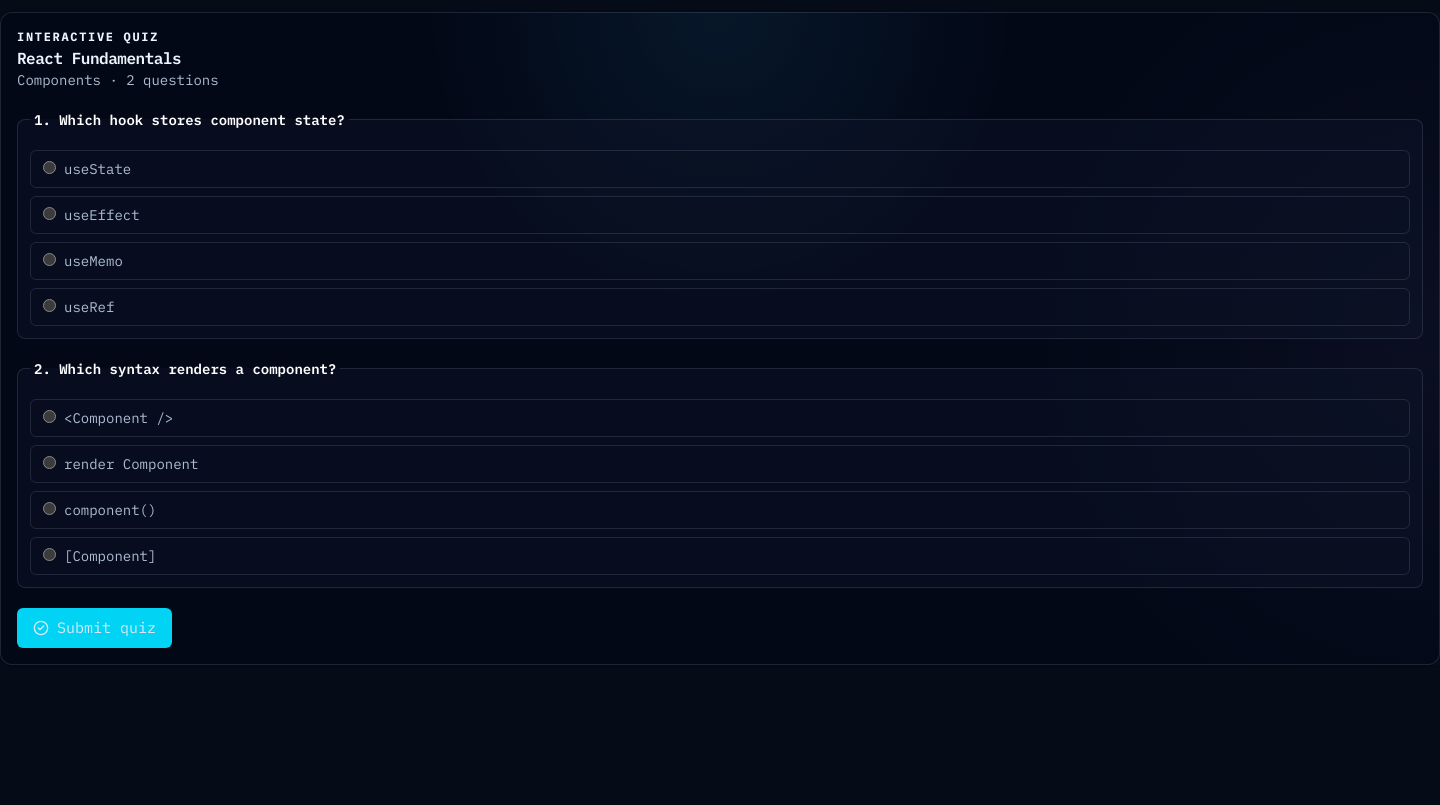
Test case: StudyQuizToolCard › reveals each submitted explanation independently
Expected: the button "Why is this the correct answer?" is not shown
Click the radio button labelled "useState" at (50, 167), box [43,161,56,174]
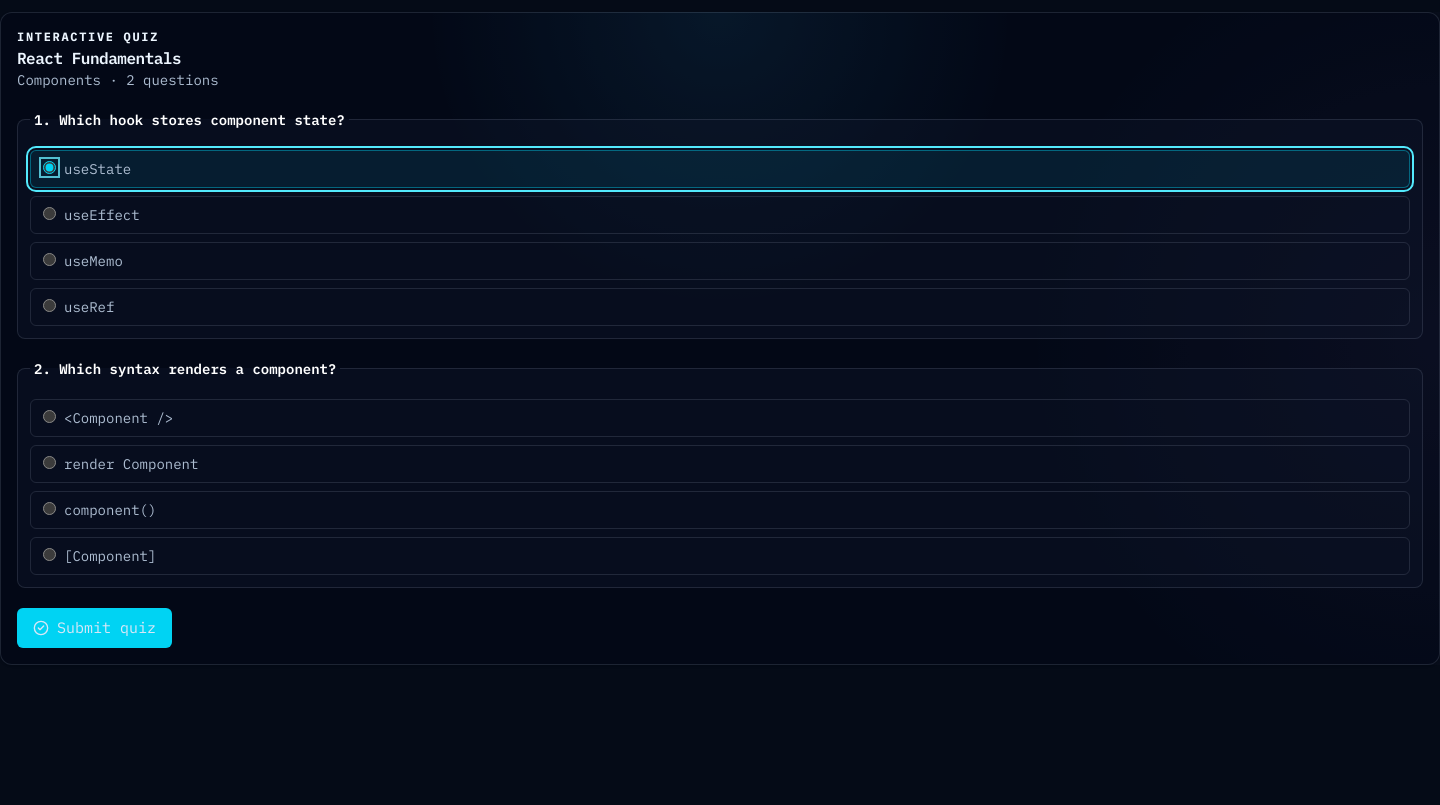
Click the radio button labelled "render Component" at (50, 462), box [43,456,56,469]
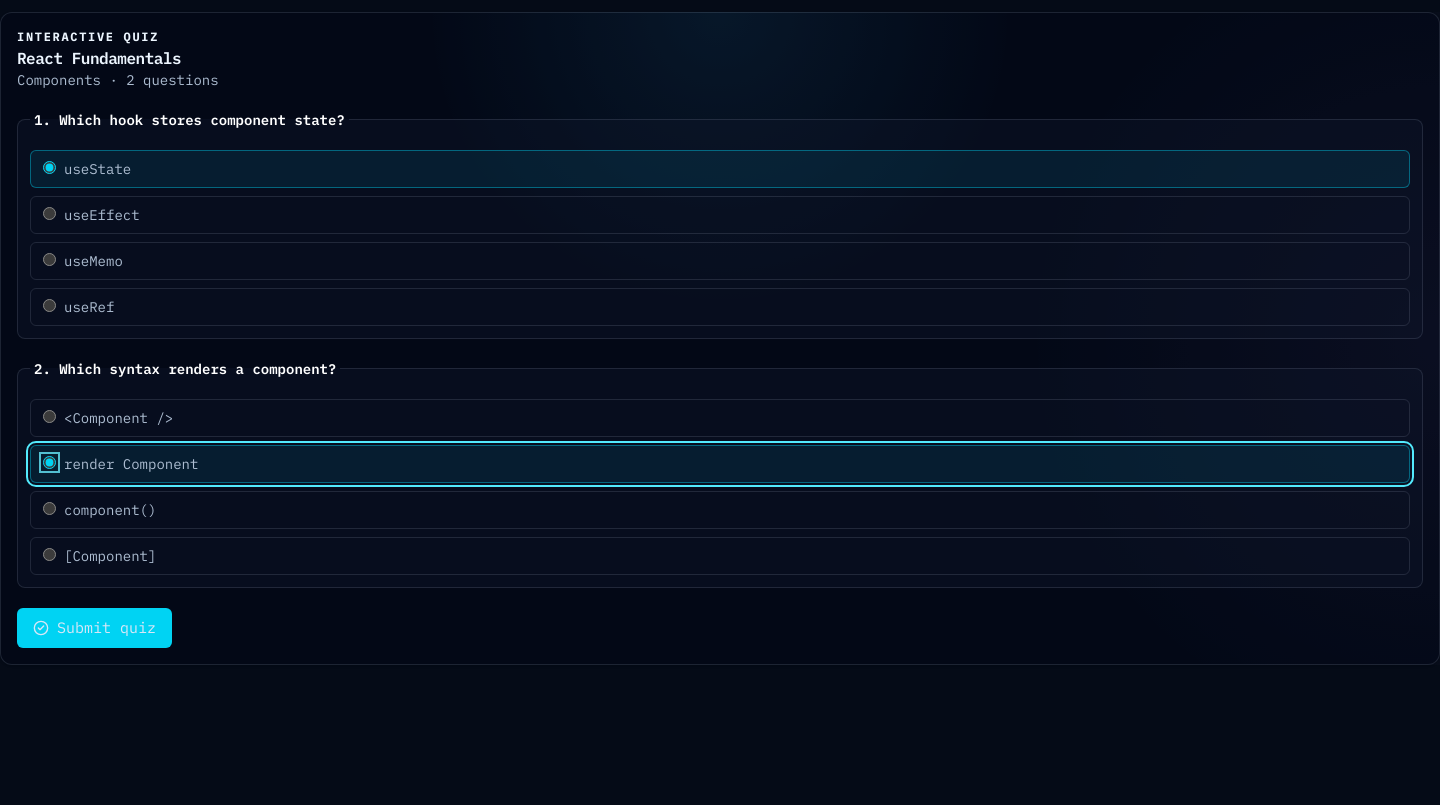
Click the button "Submit quiz" at (94, 628), box [17,608,172,648]
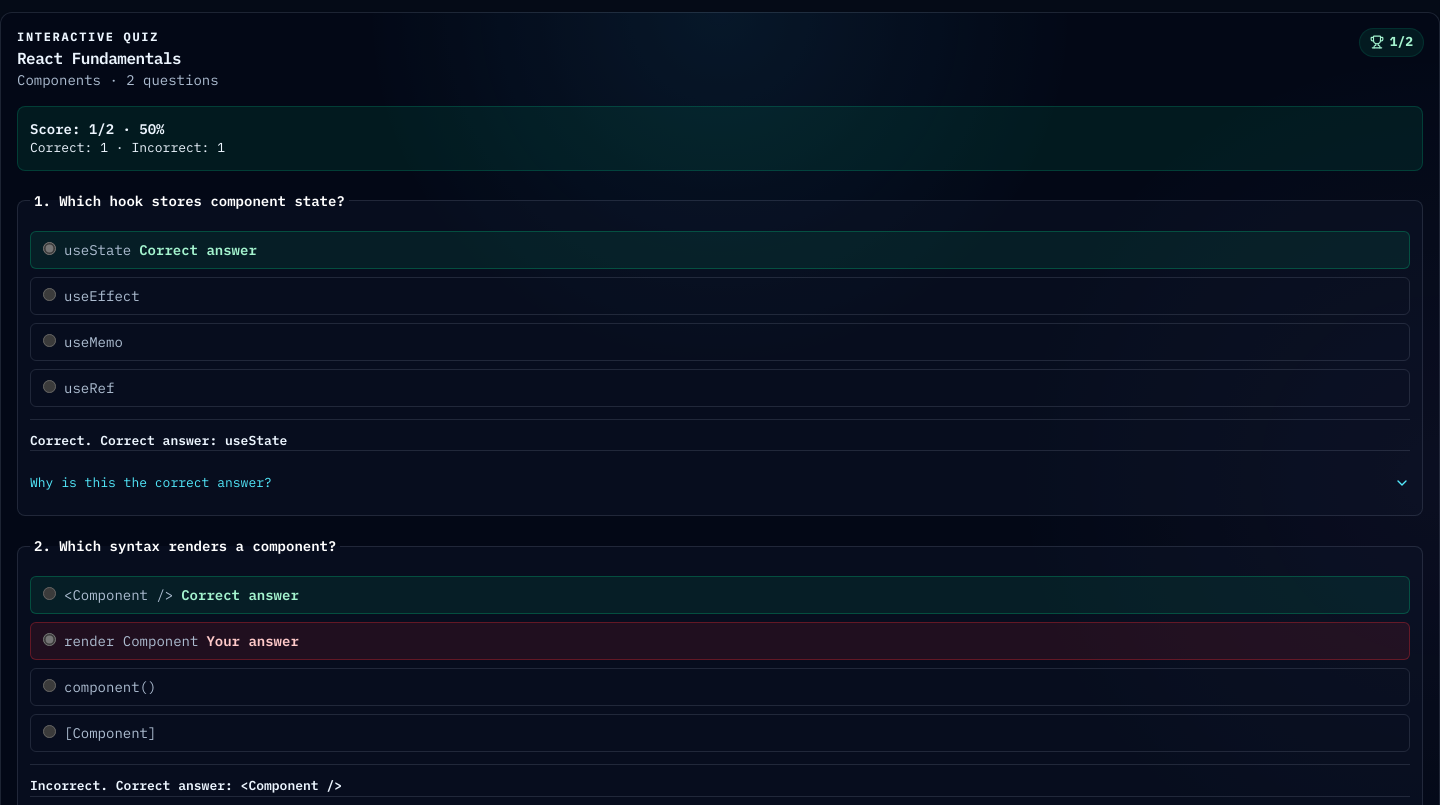
Expected: the text "useState stores local component state." is not shown
Click the button "Why is this the correct answer?" below "useRef" at (151, 483), box [30,464,1410,504]
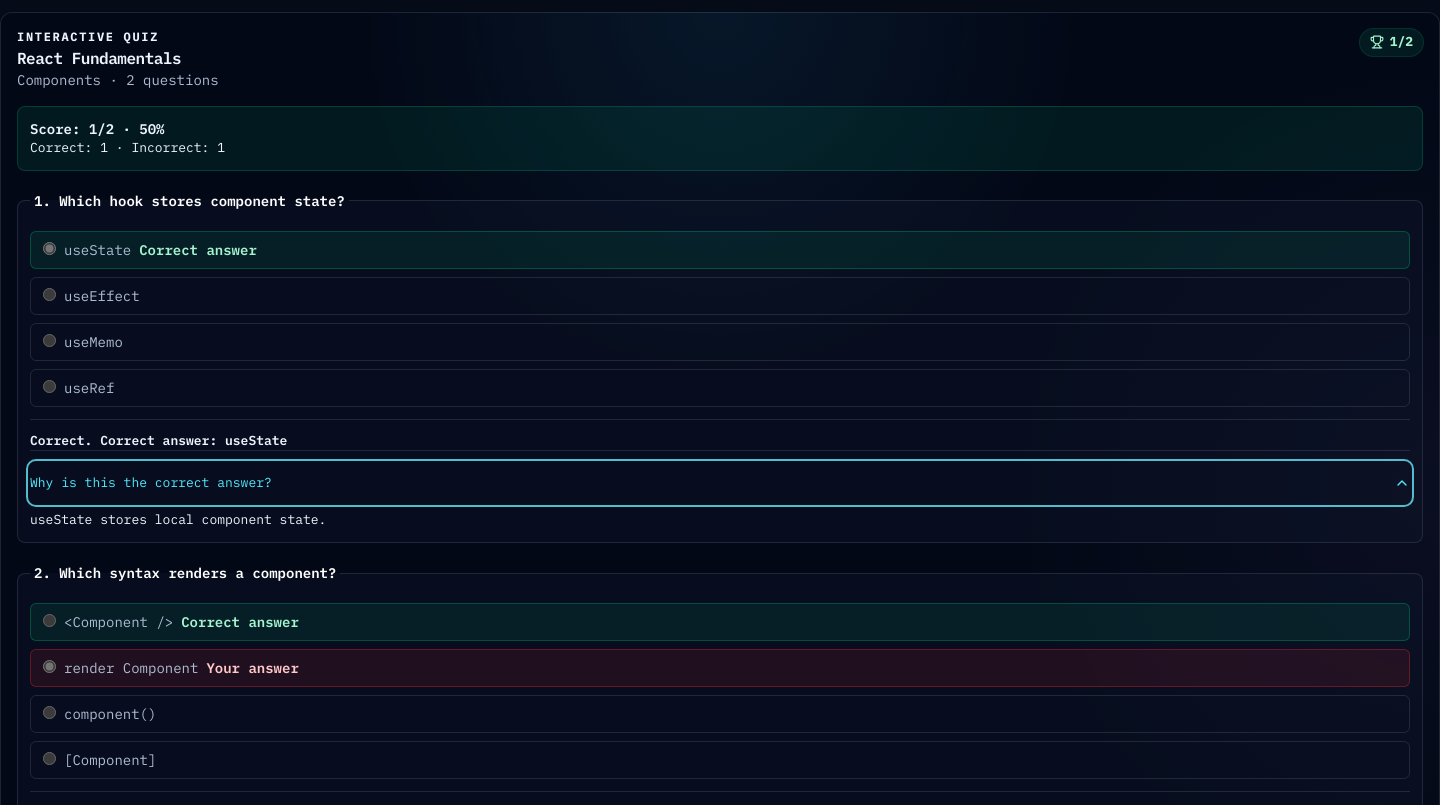
Expected: the text "useState stores local component state." is shown, [30,512,326,528]
